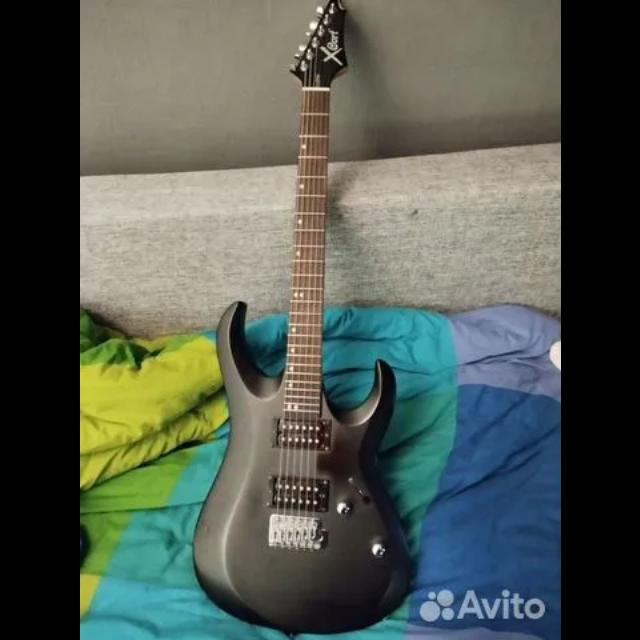Electric-Guitar: (194, 0, 410, 632)
